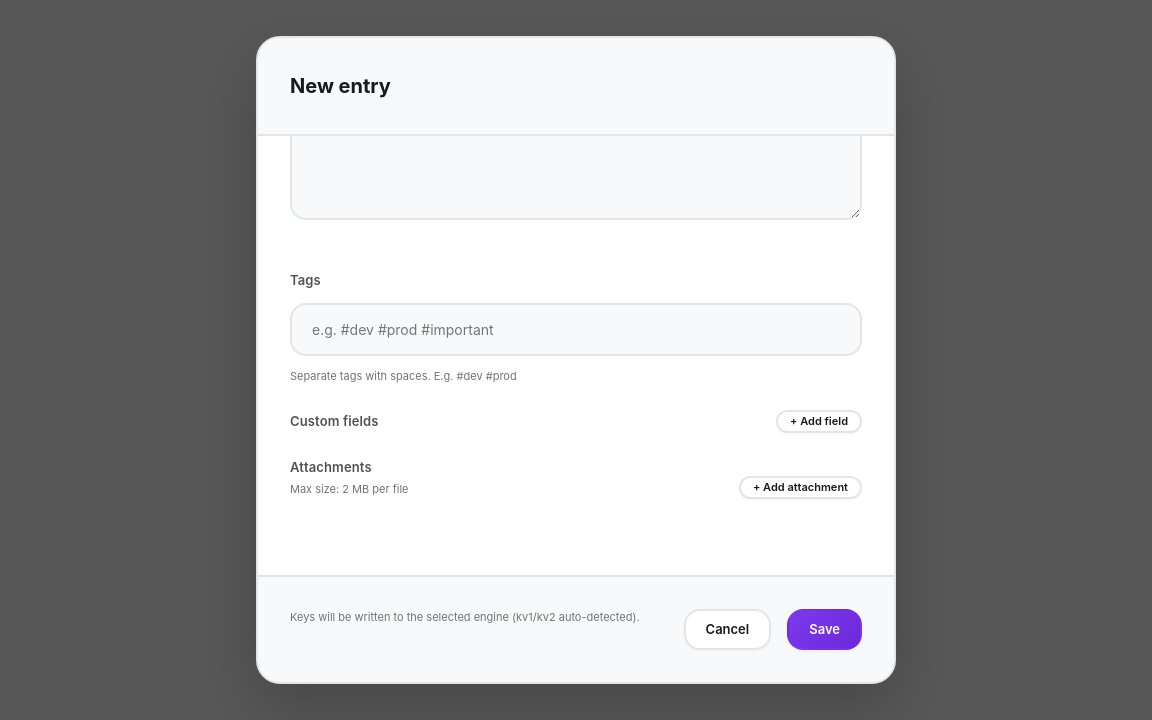
Test case: A11Y-28 — boutons-icônes nommés › suppression d'un champ personnalisé : nom « Remove field »
(page scrolled)
Step 1. Click the button "+ Add field" → click(819, 421), box [776, 410, 862, 432]
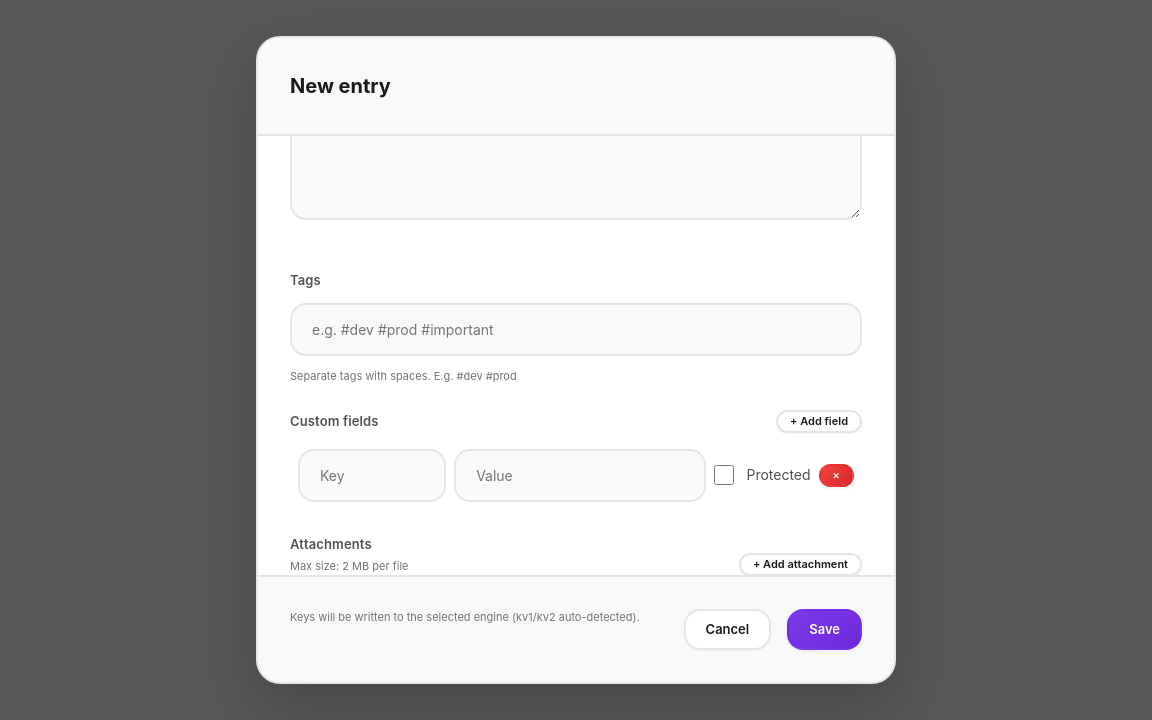
expect the button "×" is shown: met, box [819, 464, 854, 486]
